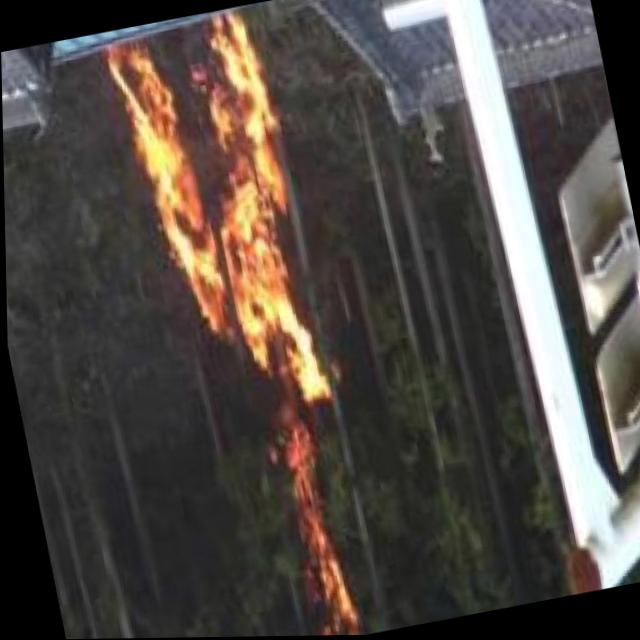fire: (94, 1, 382, 638)
